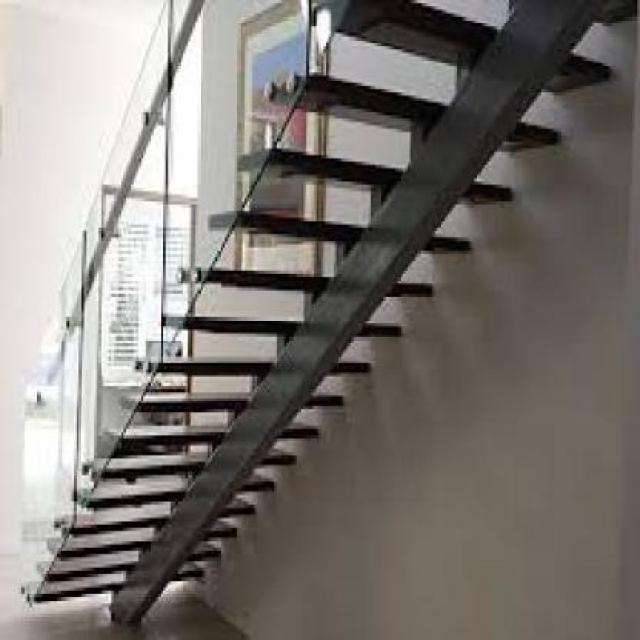stair: (17, 11, 596, 616)
